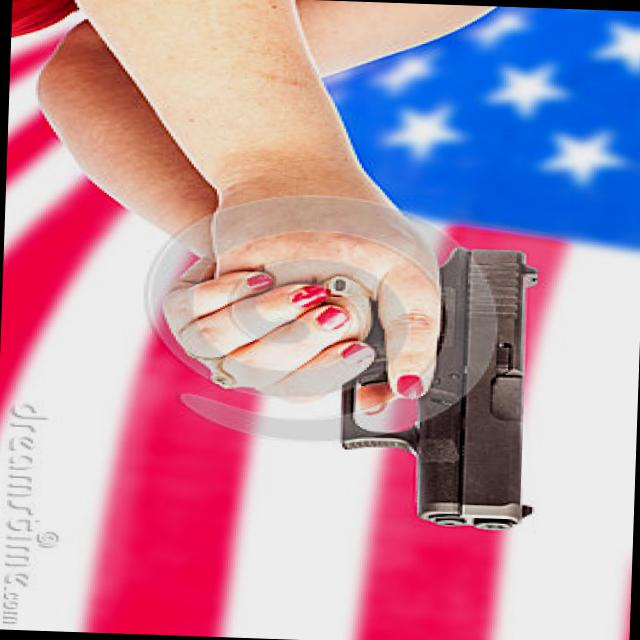handgun: (338, 240, 544, 532)
